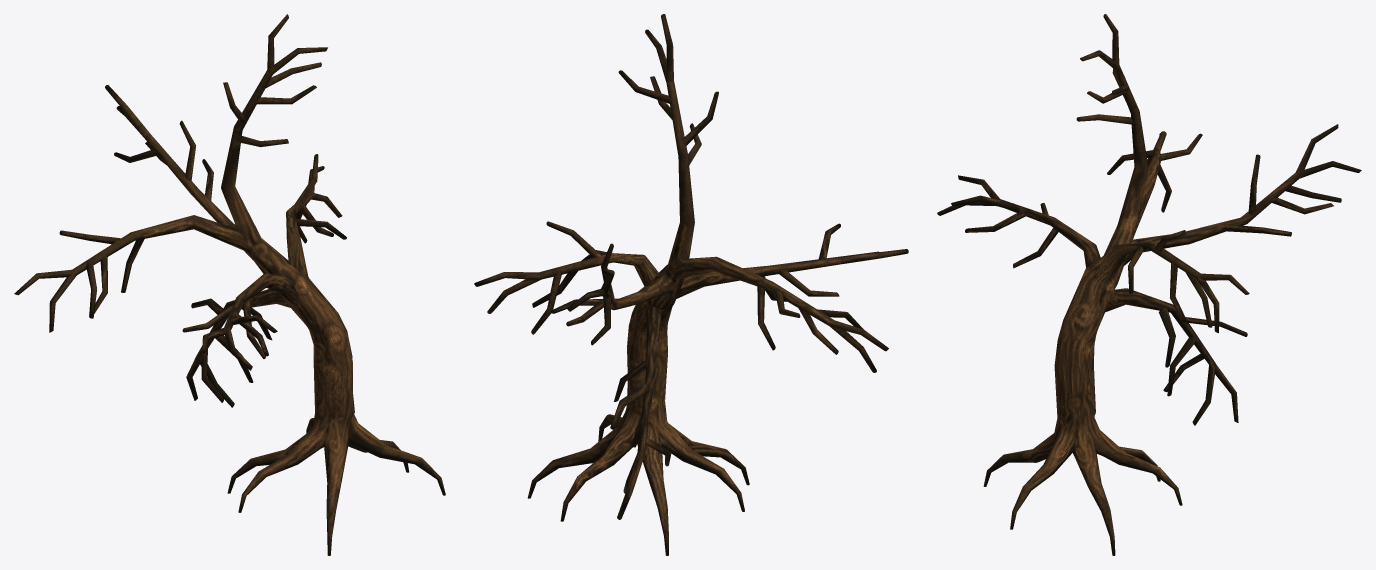
Rendered from dead_tree.fbx.
3 views of the same model, side by side, from view 1: azimuth 30°, elevation 25°; view 2: azimuth 150°, elevation 25°; view 3: azimuth 270°, elevation 25° (orthographic). The views are drawn at different scales.
Parts seen in each view (by area): view 1: arbre_mort_courbe.001; view 2: arbre_mort_courbe.001; view 3: arbre_mort_courbe.001.
Boxes of the visible parts, <box> form: arbre_mort_courbe.001: <box>14,14,445,555</box>; arbre_mort_courbe.001: <box>474,14,908,555</box>; arbre_mort_courbe.001: <box>937,14,1361,555</box>.
Bounding box in the file's own units: 1432 × 1817 × 1452.
1 material, 1 textured.
